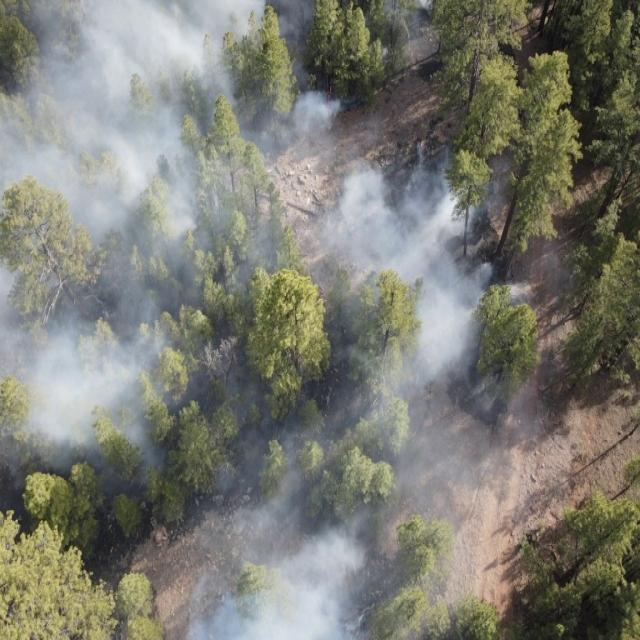fire: (320, 83, 337, 116), (338, 104, 366, 120)
smoke: (0, 189, 339, 499), (0, 2, 428, 188), (340, 156, 514, 402), (184, 497, 404, 640), (369, 402, 540, 509)
